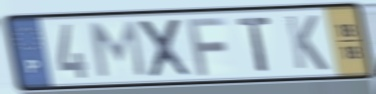4: (56, 22, 89, 81)
F: (184, 15, 230, 78)
K: (283, 13, 331, 73)
M: (87, 19, 149, 79)
T: (235, 15, 274, 74)
X: (135, 17, 195, 80)
